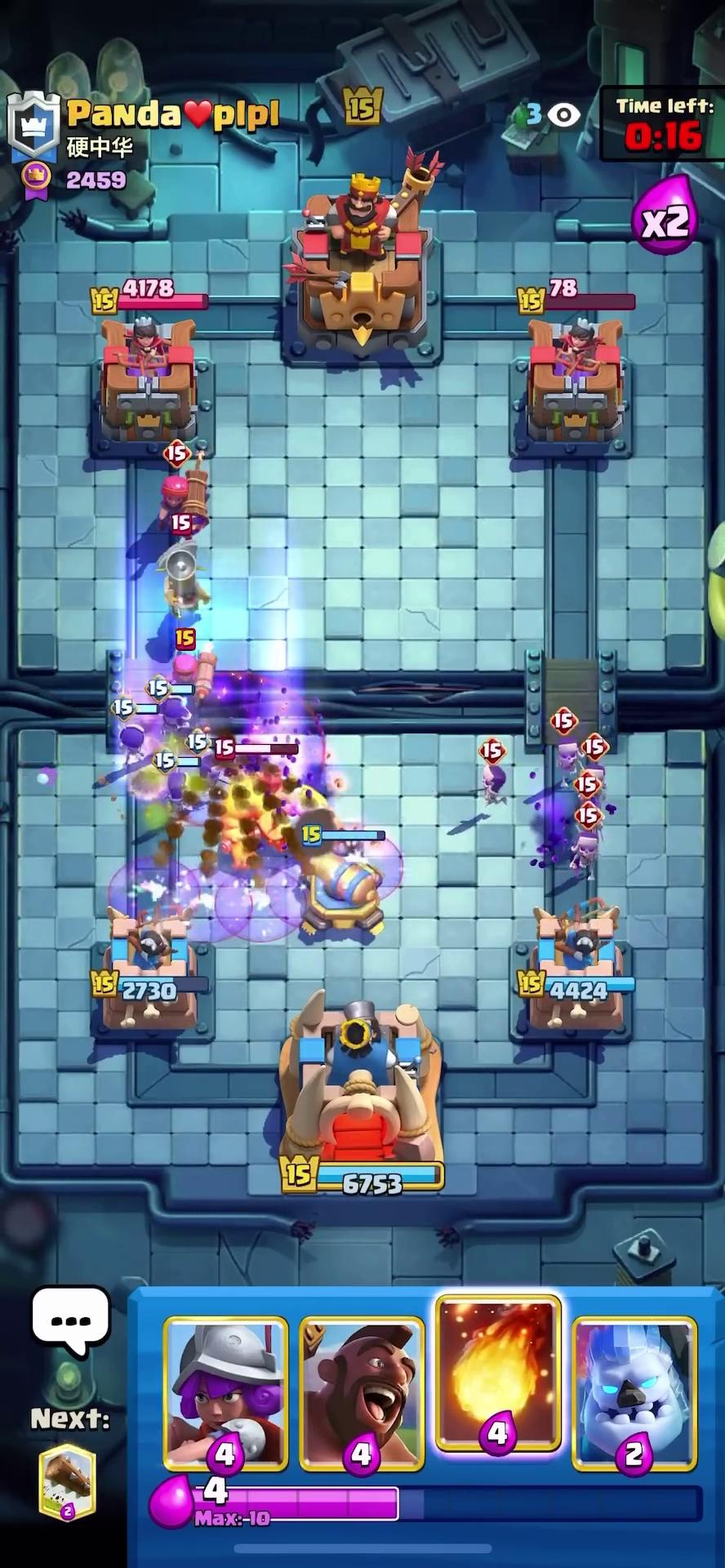cannon: (288, 831, 384, 939)
evo_skeletons: (104, 680, 231, 798)
